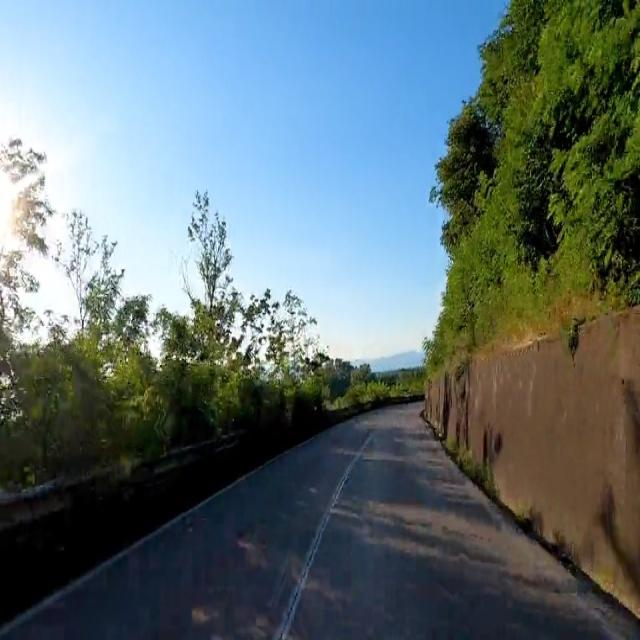lane: (273, 433, 371, 639)
road: (0, 403, 639, 638)
